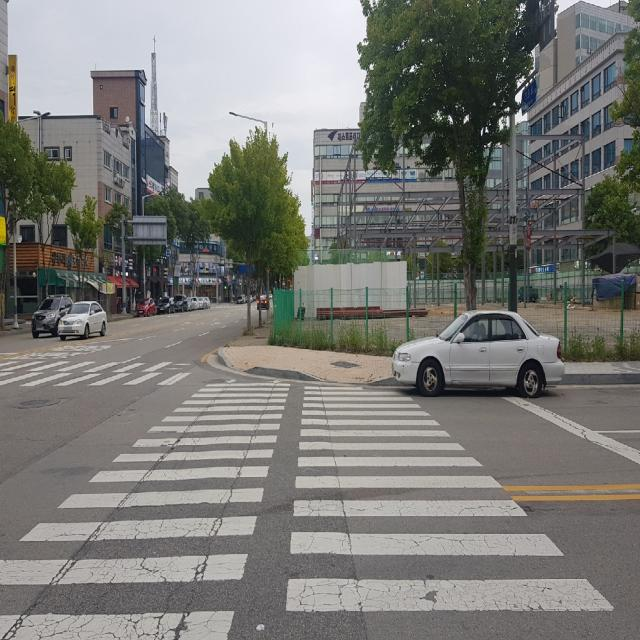횡단보도: (34, 374, 614, 640), (0, 357, 201, 385)
